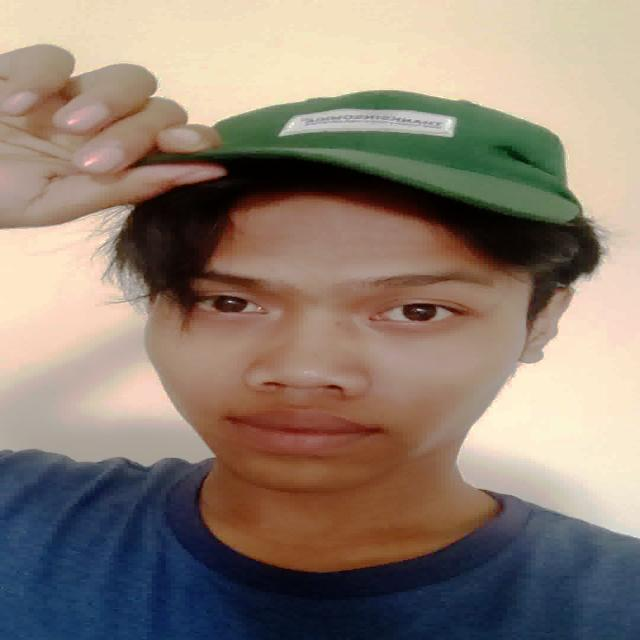TOPI: (128, 51, 602, 237)
